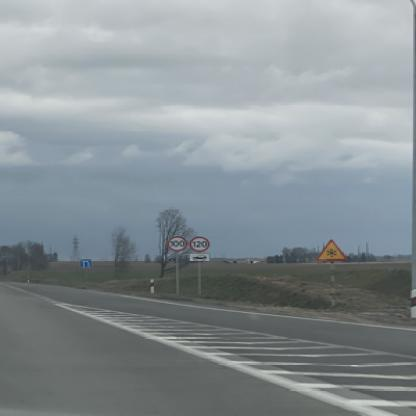speedlimit: (187, 235, 208, 250), (165, 235, 184, 251)
